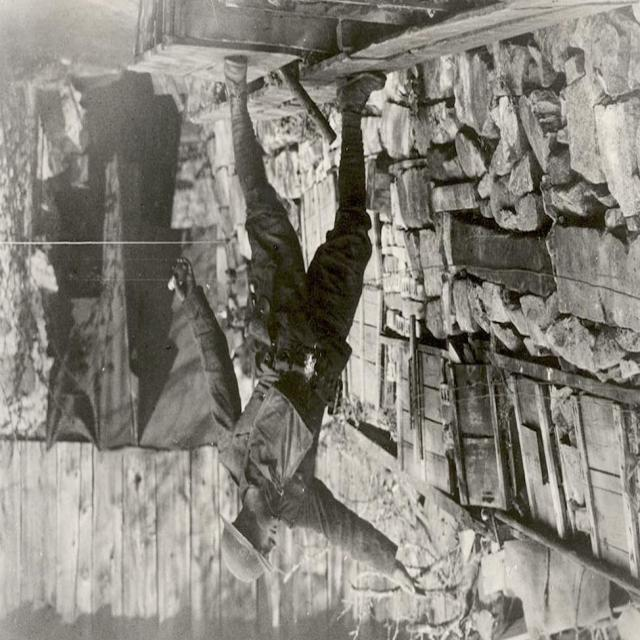grenade: (168, 259, 190, 294), (304, 346, 320, 386)
